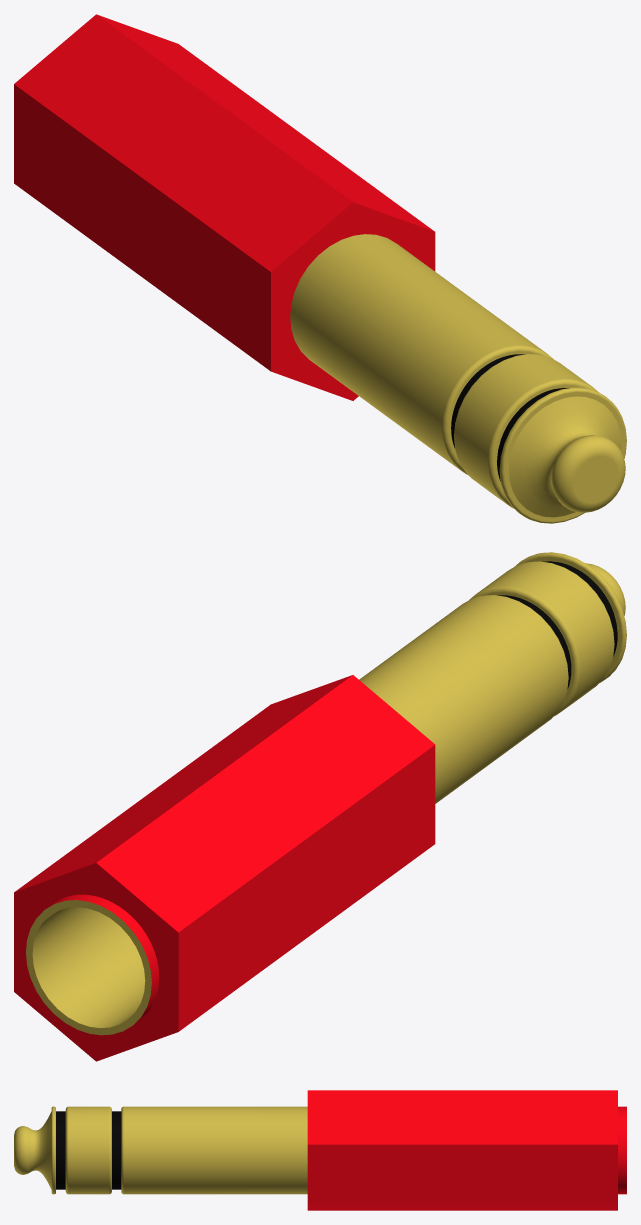
The model's file is TIP_SRed.fbx.
The picture shows the model from 3 angles, top to bottom: view 1: azimuth 30°, elevation 25°; view 2: azimuth 150°, elevation 25°; view 3: azimuth 270°, elevation 25°; orthographic projection. The views are drawn at different scales.
Visible parts, largest first — view 1: TIP_red; view 2: TIP_red; view 3: TIP_red.
Part boxes in pixels (x1,y1,x2,y2): TIP_red: (14,14,626,523); TIP_red: (14,552,626,1061); TIP_red: (14,1090,626,1210).
Size of the model in its own units: 1231 by 1421 by 6573.
